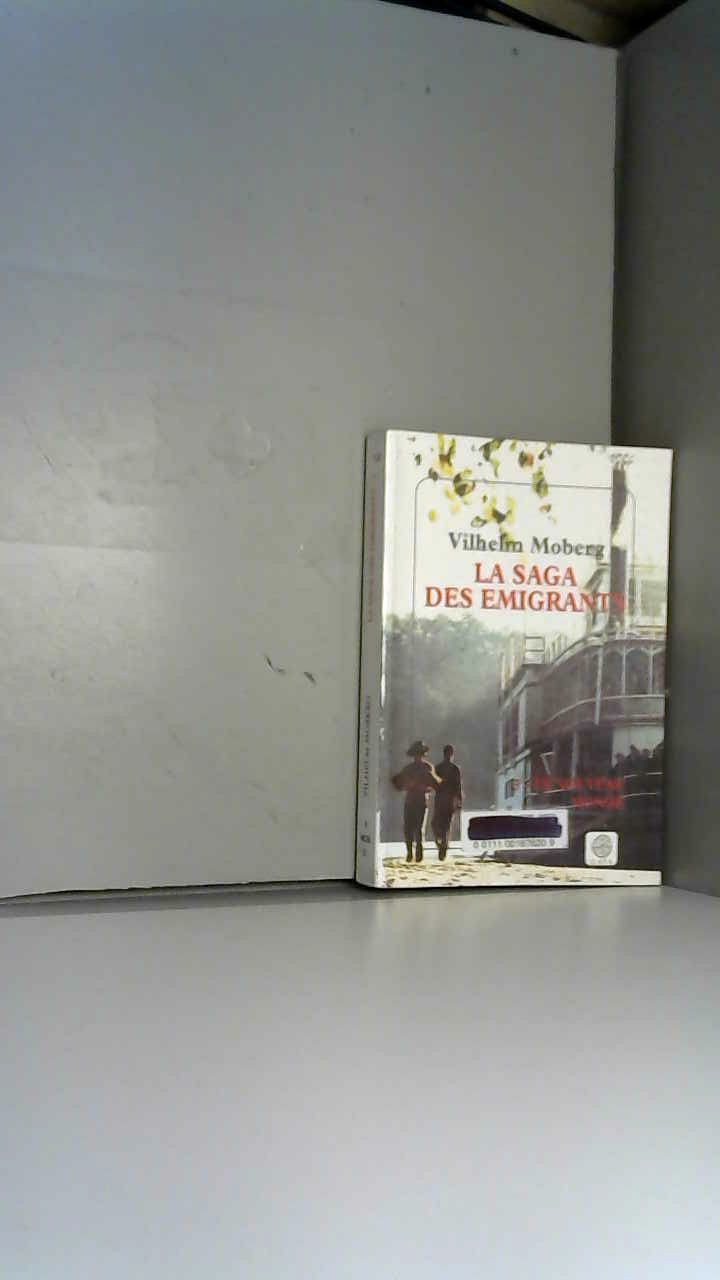book: (350, 400, 716, 931)
